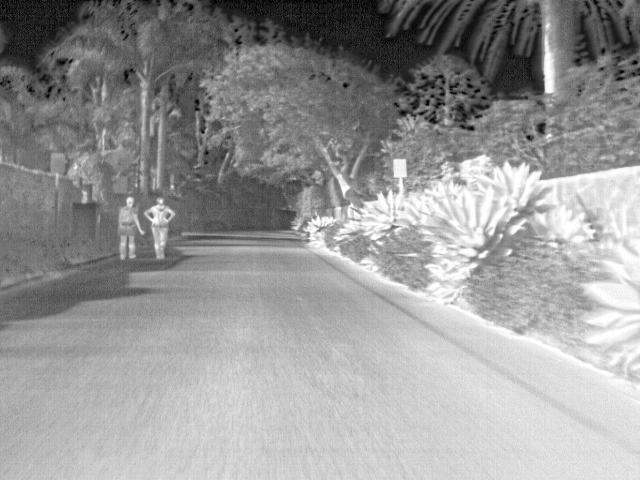person: (143, 193, 178, 262), (117, 193, 141, 260)
